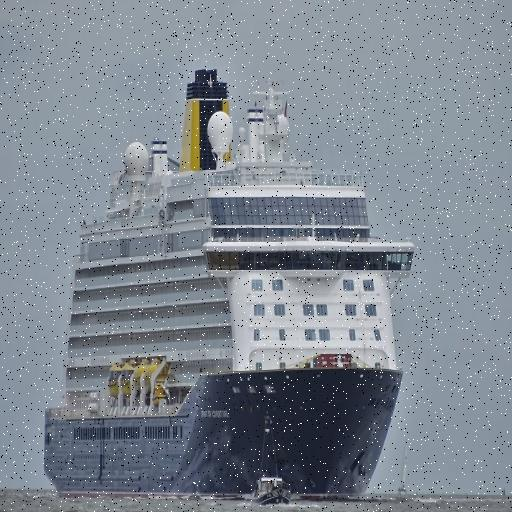cruises: (35, 66, 420, 509)
